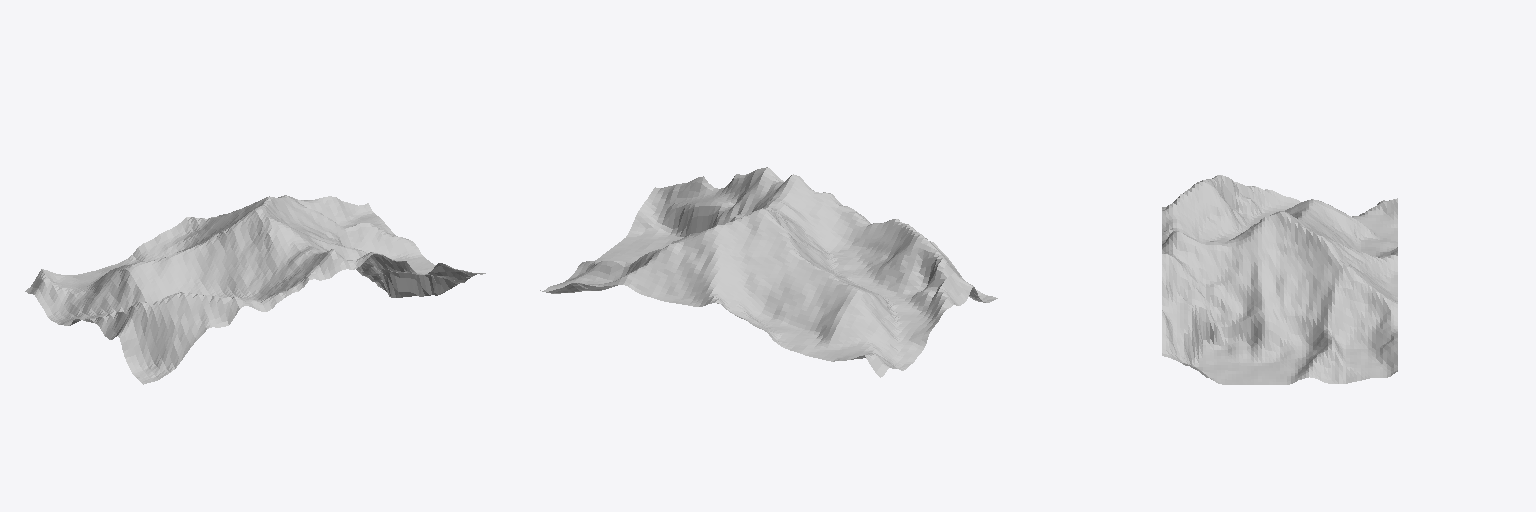
The model's file is Everest.obj.
3 renders of one model, left to right at view 1: azimuth 30°, elevation 25°; view 2: azimuth 150°, elevation 25°; view 3: azimuth 270°, elevation 25°, orthographic.
Visible parts, largest first — view 1: EXPORT_BING_SAT_WM; view 2: EXPORT_BING_SAT_WM; view 3: EXPORT_BING_SAT_WM.
Part boxes in pixels (left/top/right/bottom): EXPORT_BING_SAT_WM: left=25, top=195, right=485, bottom=384; EXPORT_BING_SAT_WM: left=540, top=167, right=997, bottom=377; EXPORT_BING_SAT_WM: left=1162, top=175, right=1397, bottom=384.
Bounding box in the file's own units: 12841 × 3350 × 7644.